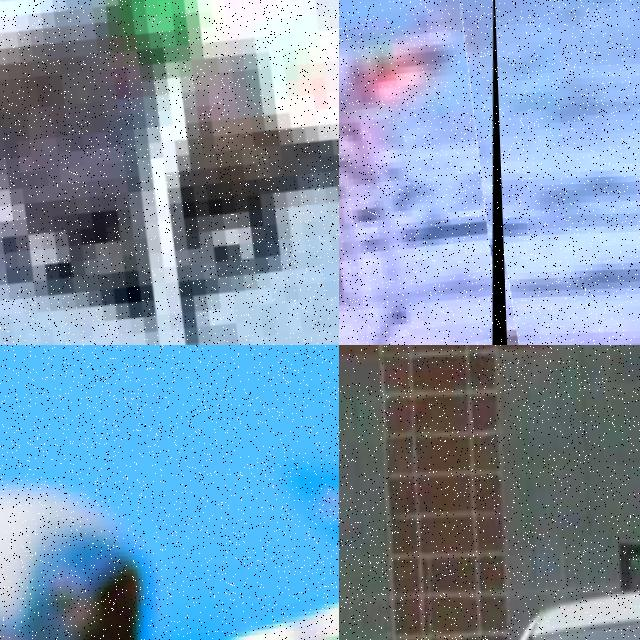drone: (0, 0, 339, 345), (0, 345, 339, 640), (339, 0, 508, 345)
